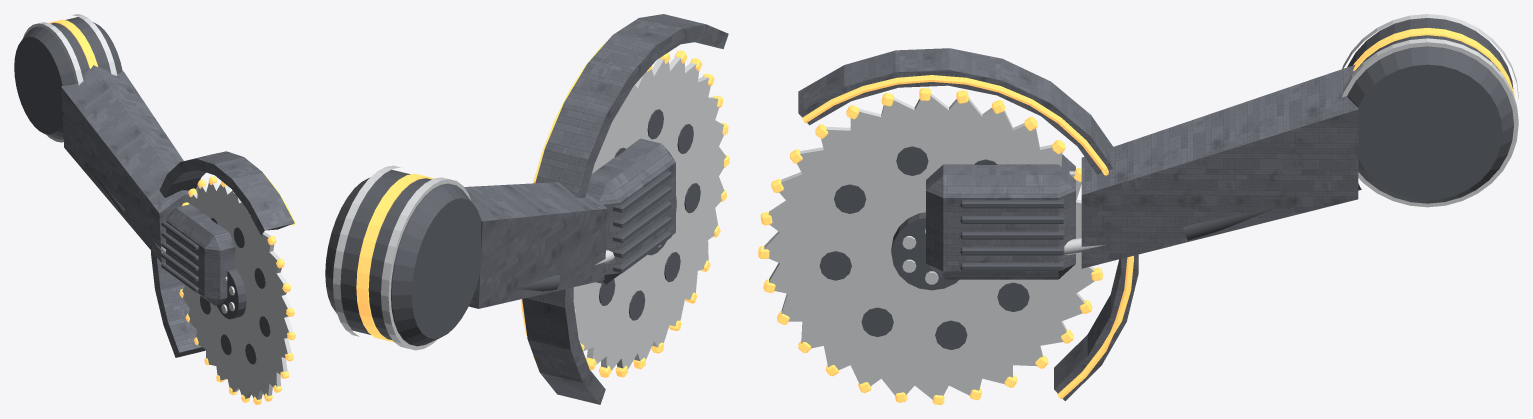
File: droid_arms.glb
3 views of the same model, side by side, from view 1: azimuth 30°, elevation 25°; view 2: azimuth 150°, elevation 25°; view 3: azimuth 270°, elevation 25° (orthographic). The views are drawn at different scales.
Visible parts, largest first — view 1: SawArm, SawBlade; view 2: SawArm, SawBlade; view 3: SawArm, SawBlade.
Part boxes in pixels (x1,y1,x2,y2): SawArm: [14, 14, 295, 357]; SawBlade: [179, 176, 295, 404]; SawArm: [325, 14, 728, 404]; SawBlade: [573, 50, 729, 377]; SawArm: [798, 14, 1518, 401]; SawBlade: [758, 88, 1102, 404].
Size of the model in its own units: 0.187 by 0.719 by 1.32.
Materials: 4 (1 with a texture image).
